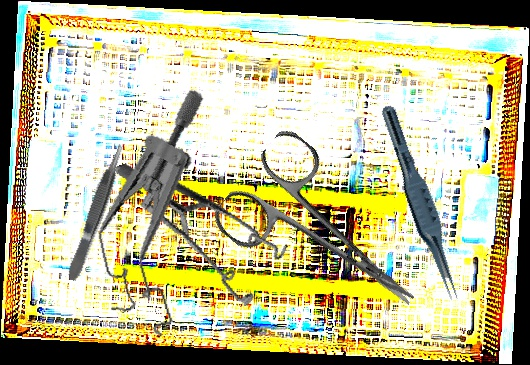Iris Scissors: (207, 124, 448, 353)
Speculum: (68, 87, 251, 349), (113, 120, 302, 333)
Tissue Forceps: (368, 102, 472, 305), (62, 141, 131, 283)
